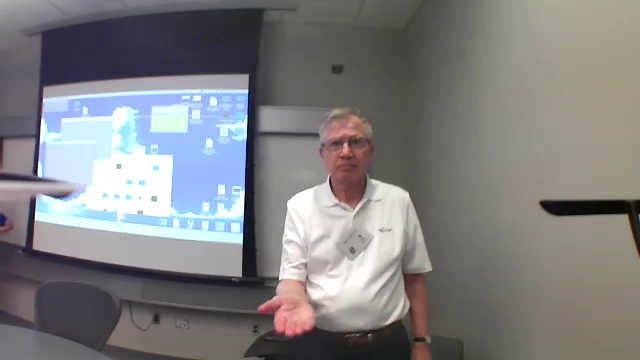land: (252, 290, 328, 349)
